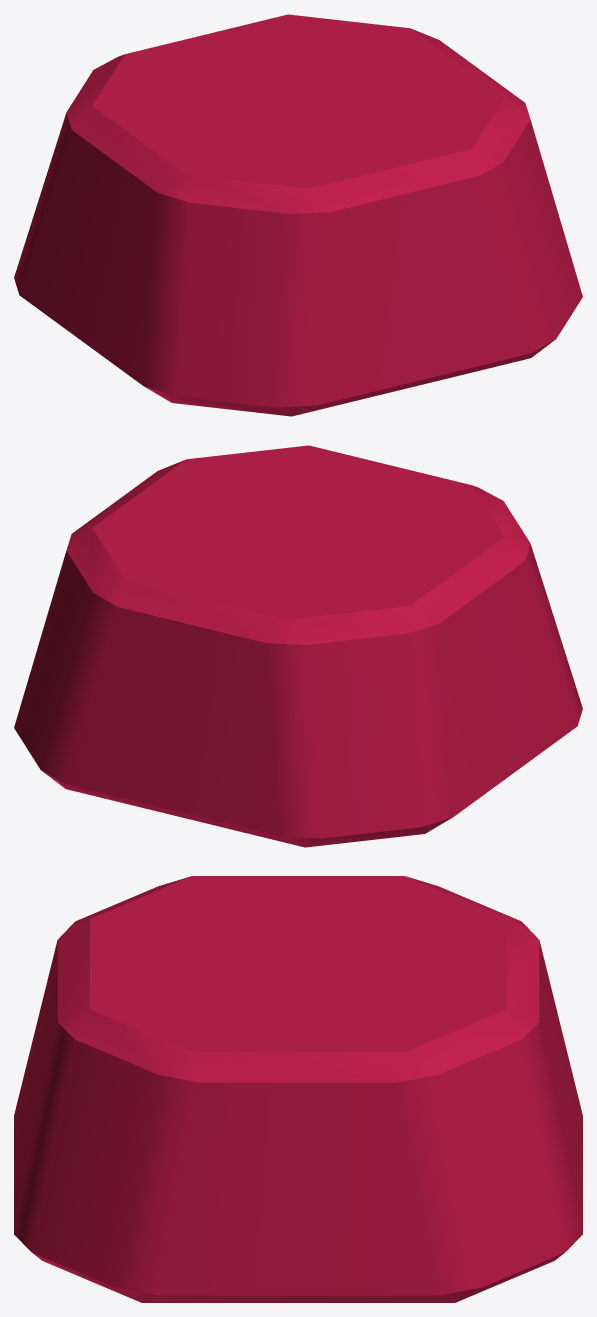
Rendered from fbx_club_sofa2.fbx.
3 views of the same model, one above another, from view 1: azimuth 30°, elevation 25°; view 2: azimuth 150°, elevation 25°; view 3: azimuth 270°, elevation 25° (orthographic). The views are drawn at different scales.
Parts seen in each view (by area): view 1: fbx_club_sofa2; view 2: fbx_club_sofa2; view 3: fbx_club_sofa2.
Boxes of the visible parts, x1,y1,x2,y2 form: fbx_club_sofa2: [14, 14, 582, 416]; fbx_club_sofa2: [14, 445, 582, 847]; fbx_club_sofa2: [14, 876, 582, 1302].
Size of the model in its own units: 1.46 by 0.6504 by 1.46.
Materials: 1 (1 with a texture image).
